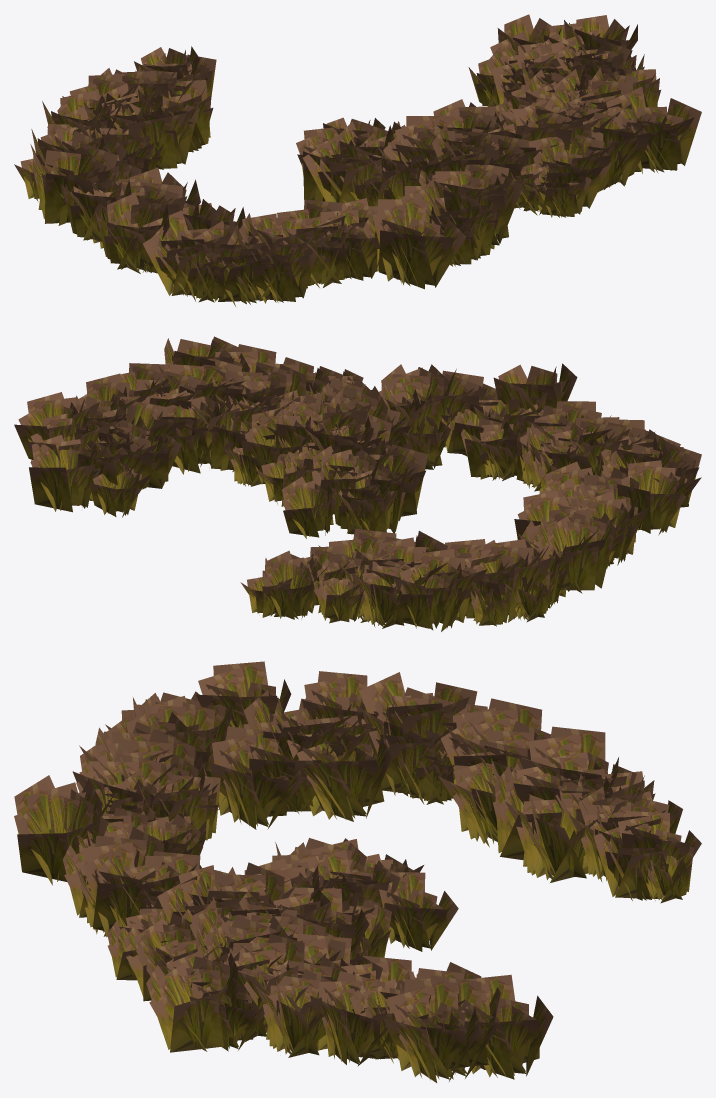
File: object_8_lev2.glb
3 views of the same model, one above another, from view 1: azimuth 30°, elevation 25°; view 2: azimuth 150°, elevation 25°; view 3: azimuth 270°, elevation 25° (orthographic). The views are drawn at different scales.
Visible parts, largest first — view 1: object_8_lev2; view 2: object_8_lev2; view 3: object_8_lev2.
Boxes of the visible parts, x1=… form: object_8_lev2: x1=14, y1=14, x2=701, y2=306; object_8_lev2: x1=14, y1=336, x2=701, y2=631; object_8_lev2: x1=14, y1=661, x2=701, y2=1082.
Size of the model in its own units: 27.55 by 3.75 by 22.42.
Materials: 1 (1 with a texture image).
